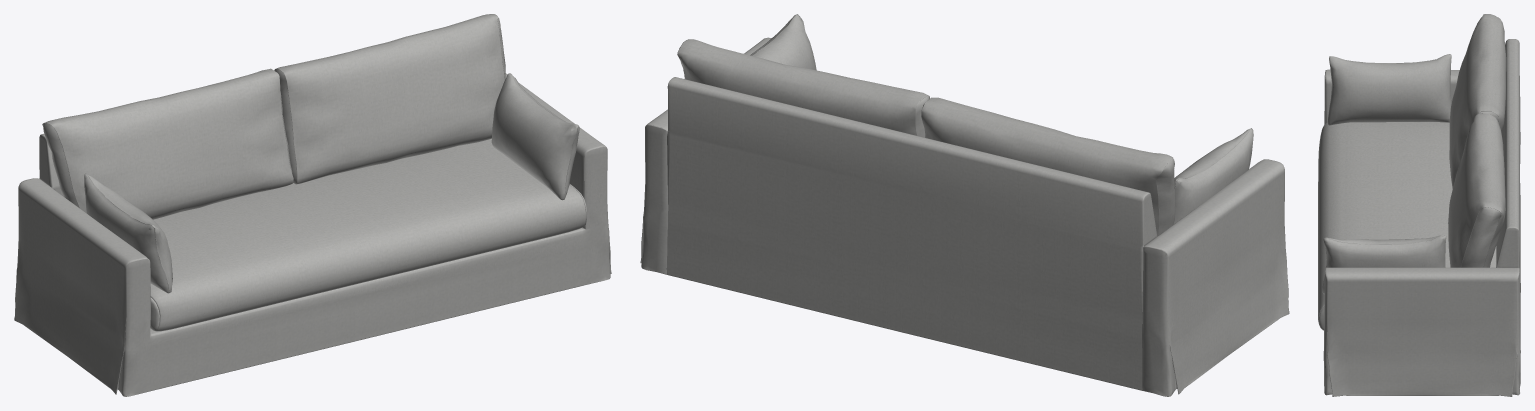
The model's file is hyltarp_sofa_3_osobowa_09514953.glb.
The picture shows the model from 3 angles, left to right: view 1: azimuth 30°, elevation 25°; view 2: azimuth 150°, elevation 25°; view 3: azimuth 270°, elevation 25°; orthographic projection. The views are drawn at different scales.
Visible parts, largest first — view 1: hyltarp_sofa_3_osobowa_09514953; view 2: hyltarp_sofa_3_osobowa_09514953; view 3: hyltarp_sofa_3_osobowa_09514953.
Part boxes in pixels (x1,y1,x2,y2): hyltarp_sofa_3_osobowa_09514953: [14, 14, 611, 396]; hyltarp_sofa_3_osobowa_09514953: [640, 14, 1289, 396]; hyltarp_sofa_3_osobowa_09514953: [1318, 14, 1520, 396].
Size of the model in its own units: 2.32 by 0.91 by 0.93.
Materials: 1 (1 with a texture image).
